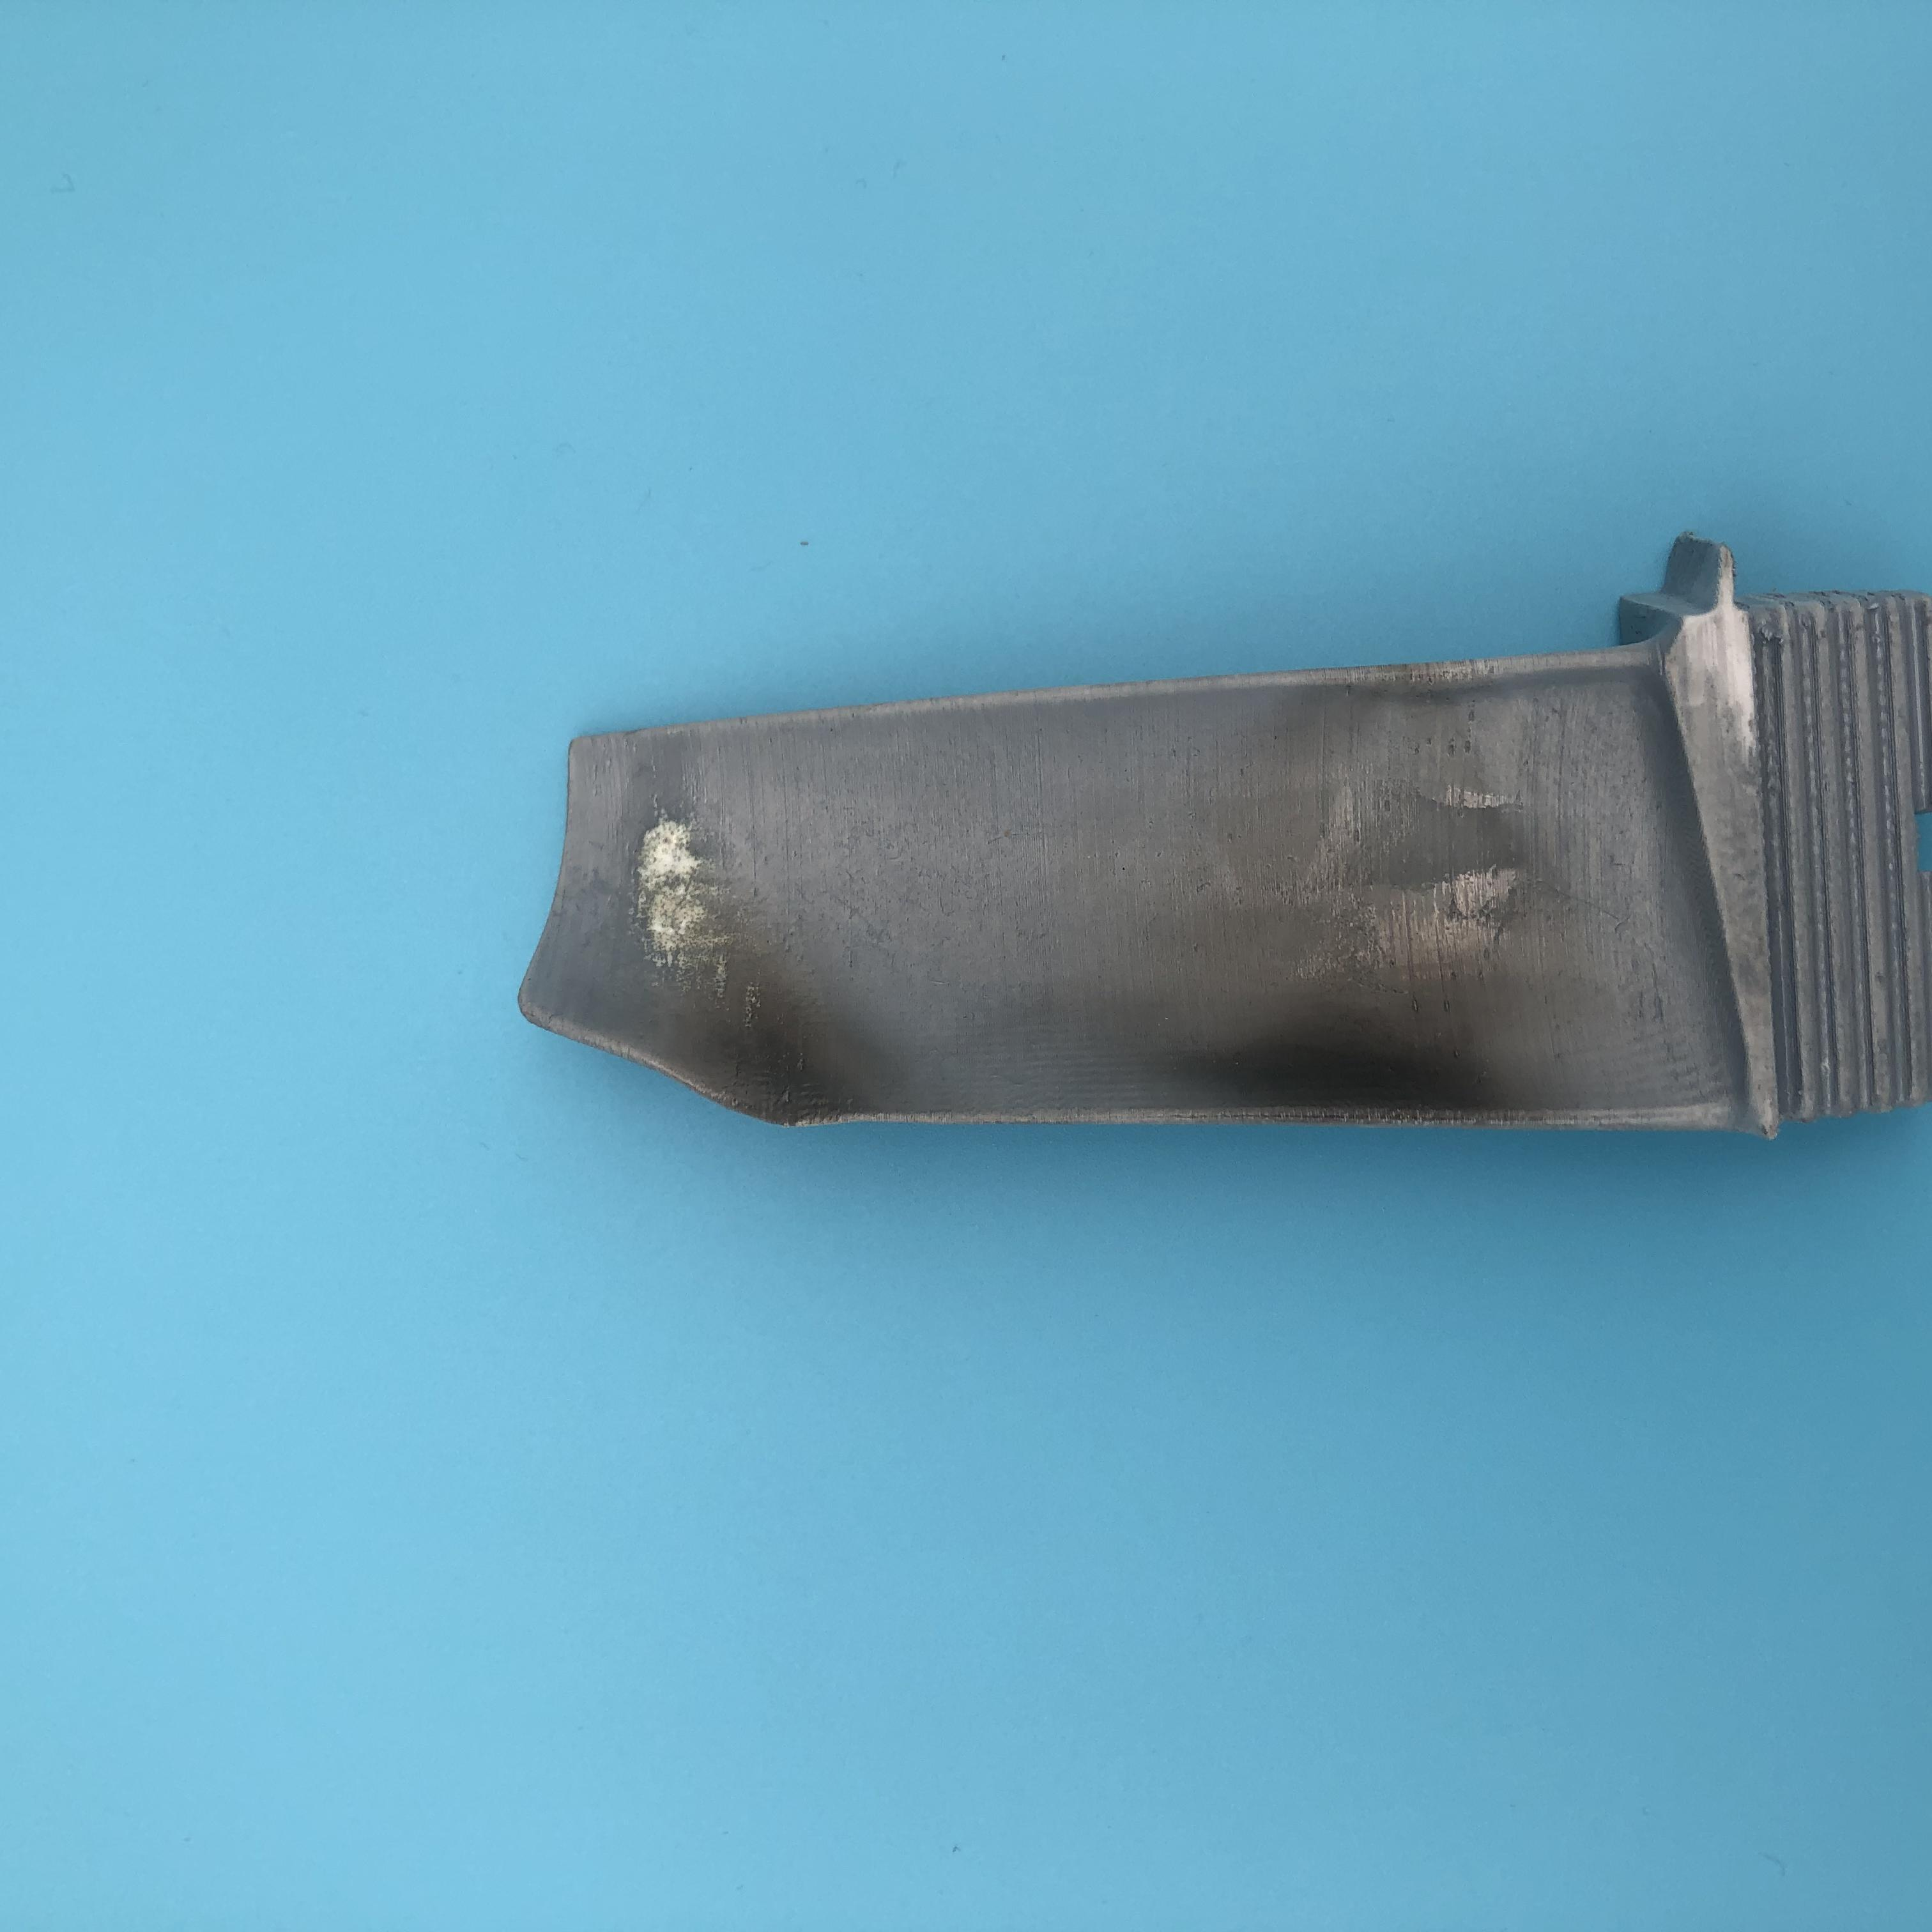ablation: (1251, 704, 1546, 1127), (633, 800, 881, 1115)
